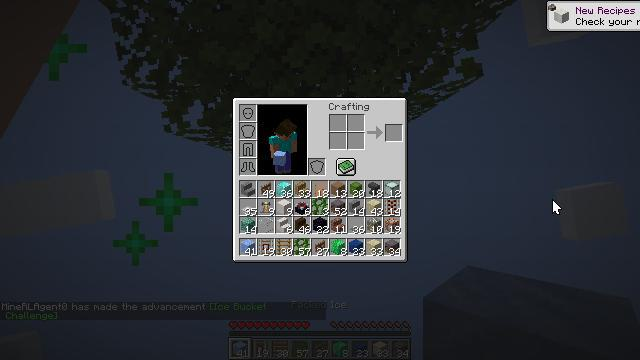cursor: (552, 199, 562, 215)
